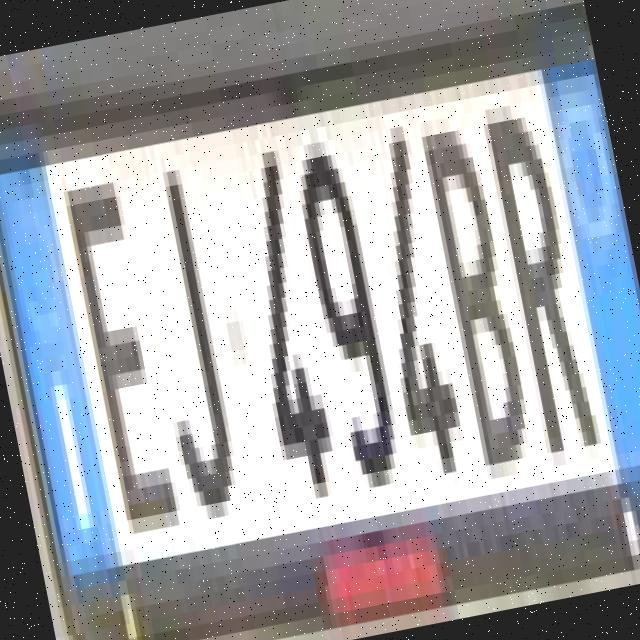EU: (0, 71, 640, 575)
Italie: (0, 149, 120, 580)
